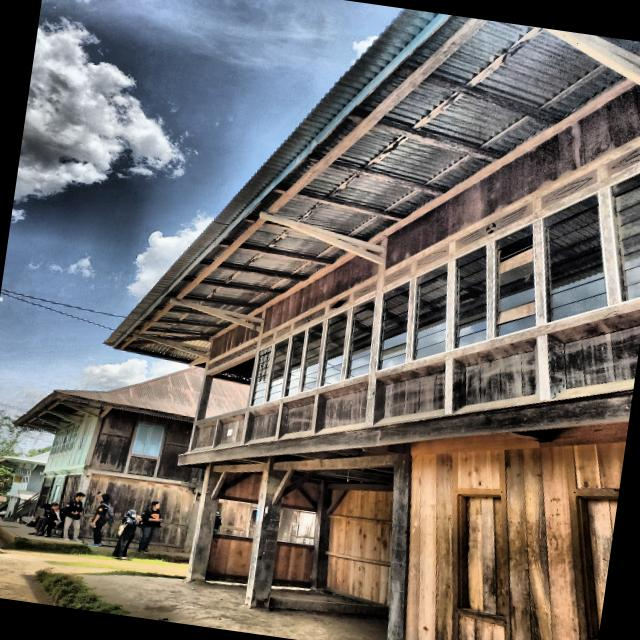column: (244, 462, 287, 608), (387, 455, 412, 640), (187, 463, 225, 580)
ornamen: (547, 309, 640, 399), (452, 337, 540, 413), (373, 360, 445, 425), (315, 381, 368, 435), (277, 395, 315, 440), (244, 404, 280, 444), (213, 413, 245, 448), (190, 420, 217, 452)
roof: (106, 9, 622, 362), (14, 366, 205, 432), (206, 379, 249, 416), (0, 451, 50, 466)
wall: (372, 84, 640, 426), (406, 420, 629, 640), (244, 255, 379, 445), (89, 408, 205, 484), (78, 474, 196, 548), (326, 490, 393, 606), (44, 411, 97, 469), (206, 537, 253, 577), (209, 325, 260, 361), (272, 545, 314, 583), (220, 473, 262, 501), (282, 488, 314, 508)
window: (544, 196, 607, 320), (576, 496, 618, 640), (457, 494, 505, 619), (496, 226, 536, 336), (612, 174, 640, 300), (455, 247, 487, 347), (413, 265, 447, 359), (378, 280, 409, 371), (346, 301, 374, 377), (322, 313, 347, 385), (302, 323, 323, 391), (267, 340, 288, 400), (285, 331, 304, 395), (251, 347, 271, 406), (132, 423, 164, 457)
